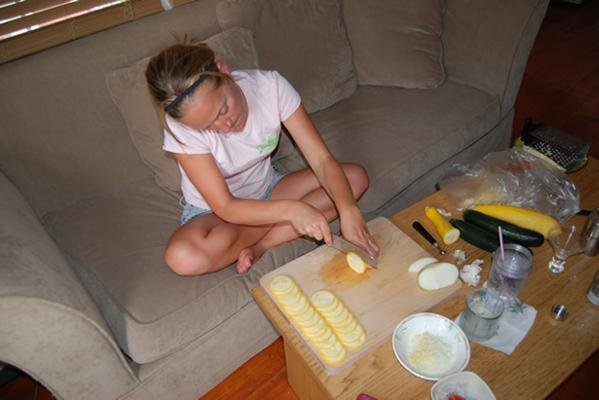person: (149, 33, 375, 278)
